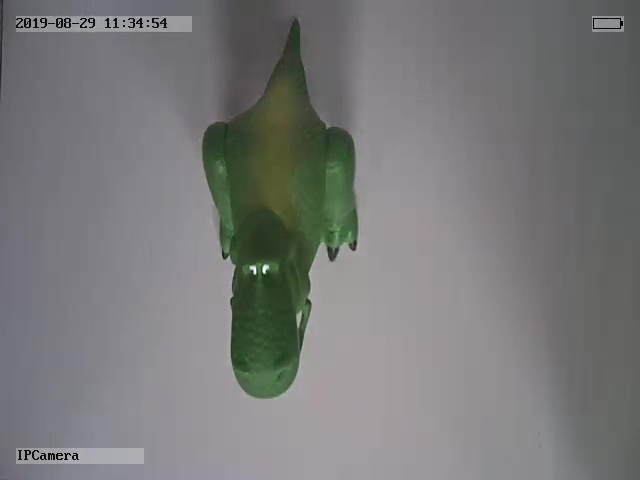rex: (202, 18, 360, 402)
